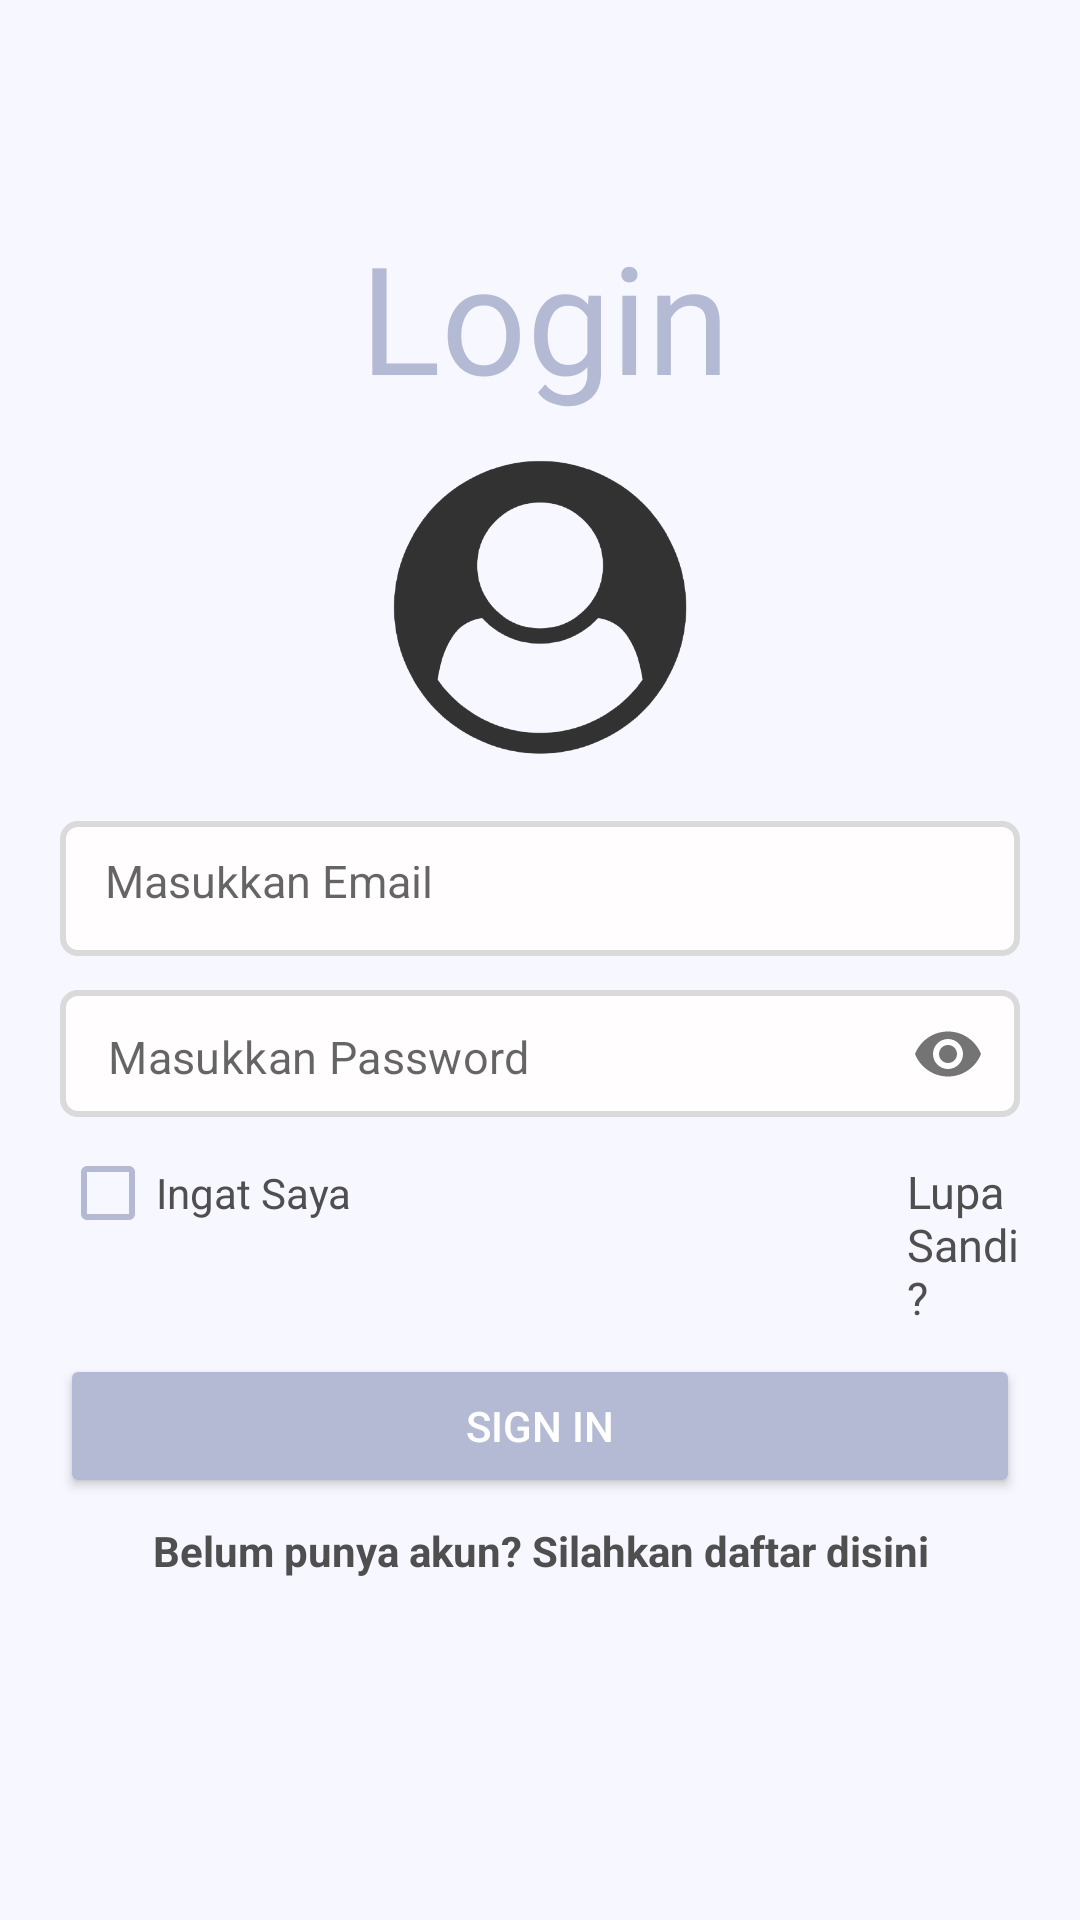

Named icons in this screenshot (1080 x 1920) and their bounding boxes, (x1, y1, x2, y2):
user: (394, 461, 687, 754)
